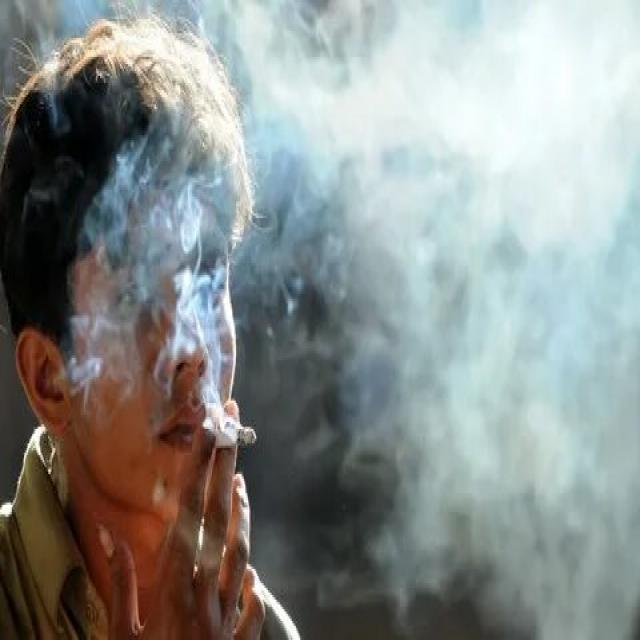smoke: (204, 410, 263, 450)
